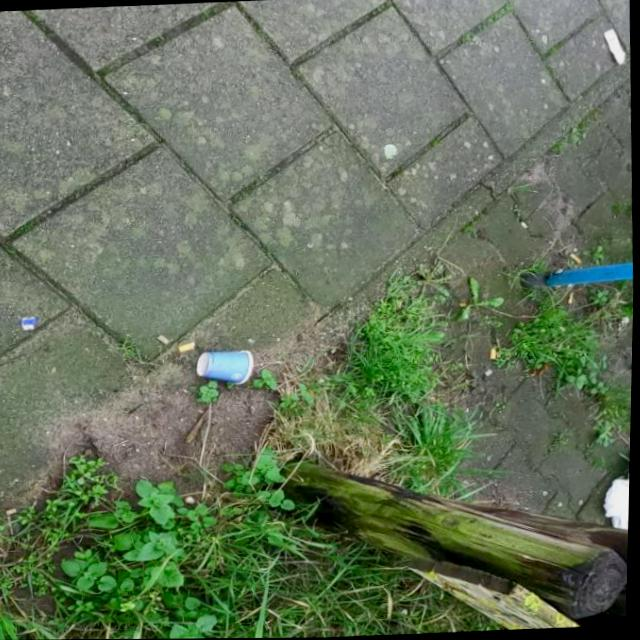Cup: (194, 348, 255, 386)
